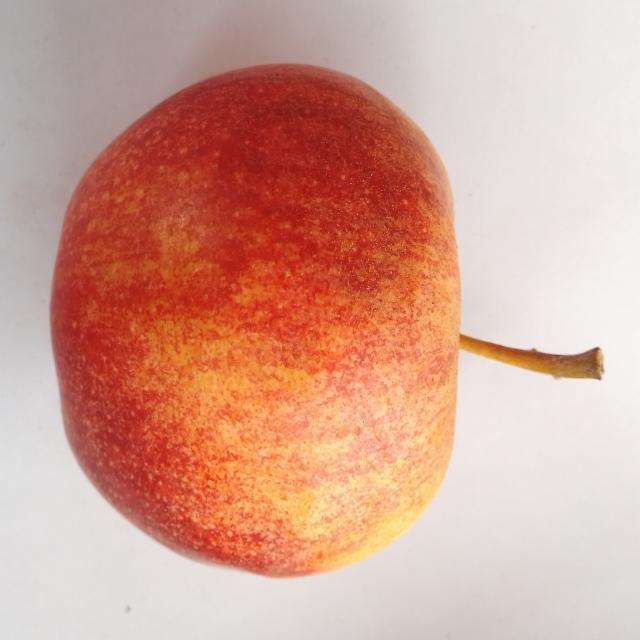Fresh Apple: (44, 55, 468, 582)
